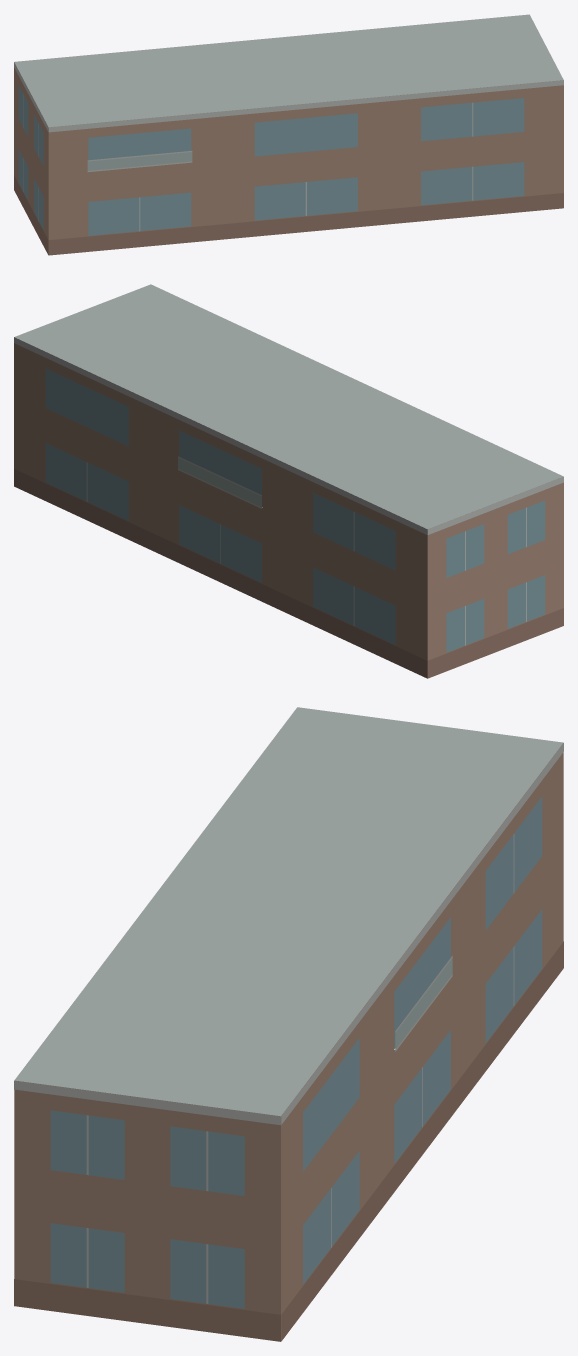
File: survey-upis-32817490.glb
3 views of the same model, one above another, from view 1: azimuth 30°, elevation 25°; view 2: azimuth 150°, elevation 25°; view 3: azimuth 270°, elevation 25° (orthographic). The views are drawn at different scales.
Parts seen in each view (by area): view 1: survey-upis-32817490.tmp; view 2: survey-upis-32817490.tmp; view 3: survey-upis-32817490.tmp.
Part boxes in pixels (bbox=[...]): survey-upis-32817490.tmp: bbox=[14, 14, 563, 255]; survey-upis-32817490.tmp: bbox=[14, 284, 563, 678]; survey-upis-32817490.tmp: bbox=[14, 707, 563, 1341].
Size of the model in its own units: 23.74 by 6.1 by 13.48.
